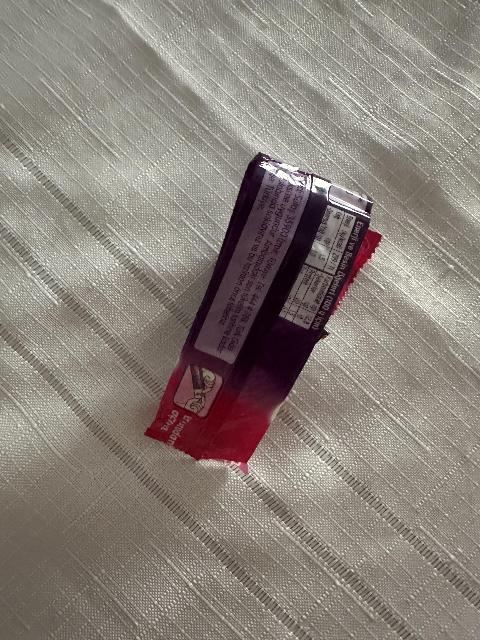Plastik: (151, 154, 378, 476)
